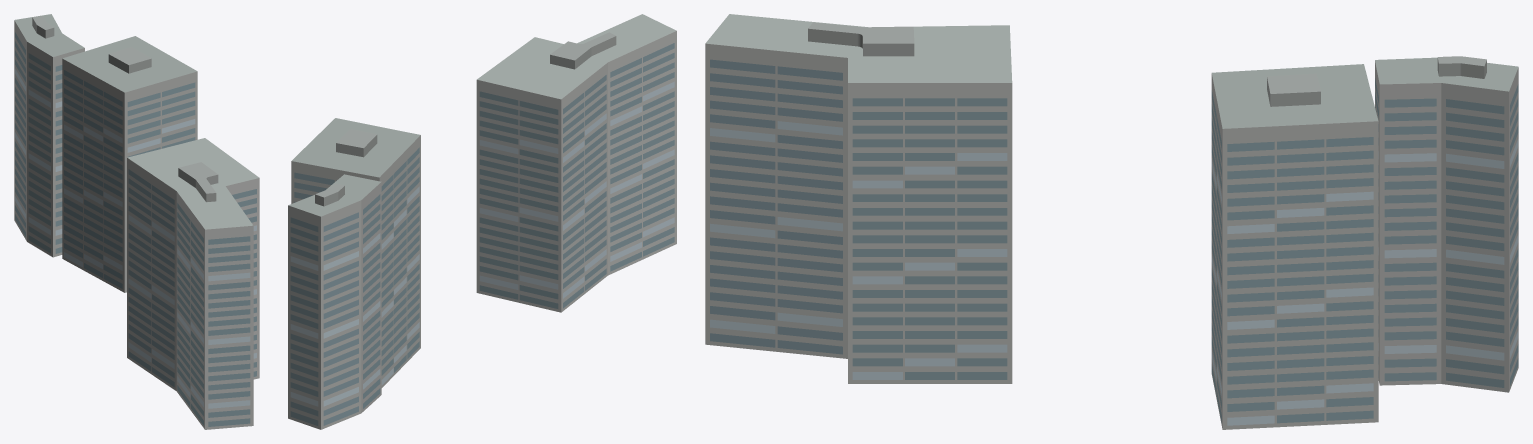
Rendered from apt-a13613201.glb.
3 renders of one model, left to right at view 1: azimuth 30°, elevation 25°; view 2: azimuth 150°, elevation 25°; view 3: azimuth 270°, elevation 25°, orthographic. The views are drawn at different scales.
Parts seen in each view (by area): view 1: apt-a13613201; view 2: apt-a13613201; view 3: apt-a13613201.
Boxes of the visible parts, box(x1,y1,x2,y2) form: apt-a13613201: box(14, 14, 259, 429); apt-a13613201: box(288, 14, 676, 429); apt-a13613201: box(705, 14, 1518, 429).
Bounding box in the file's own units: 46.33 × 59 × 139.
